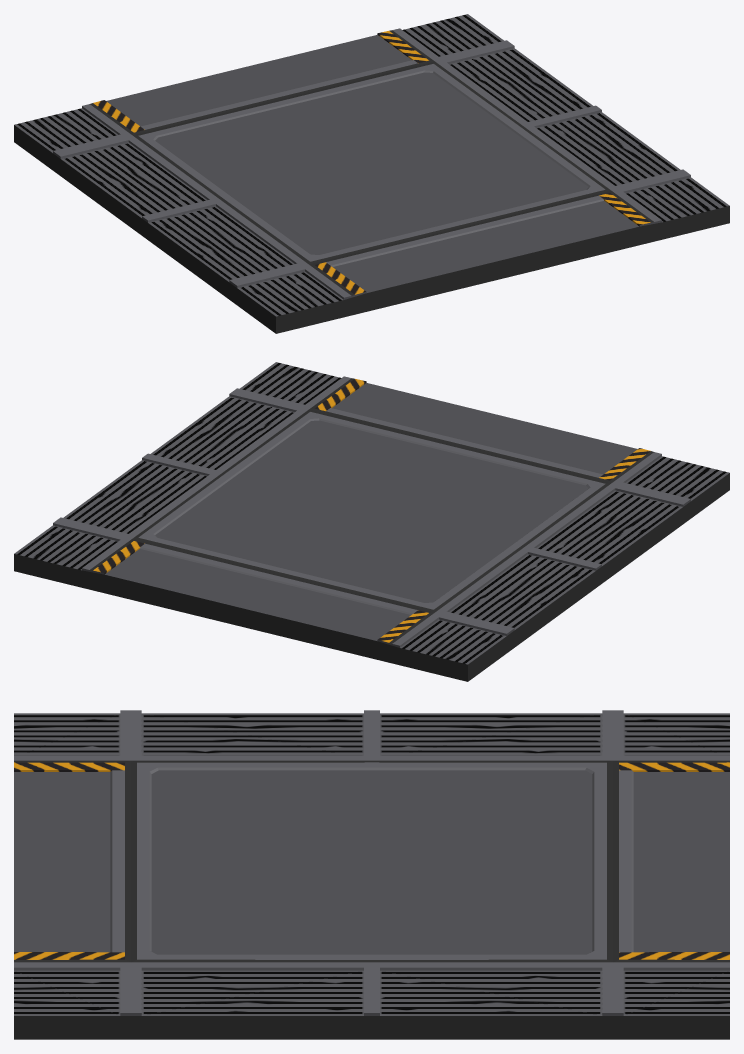
File: SM_Bld_Floor_08.fbx
3 views of the same model, one above another, from view 1: azimuth 30°, elevation 25°; view 2: azimuth 150°, elevation 25°; view 3: azimuth 270°, elevation 25° (orthographic). The views are drawn at different scales.
Visible parts, largest first — view 1: SM_Bld_Floor_08_LOD0; view 2: SM_Bld_Floor_08_LOD0; view 3: SM_Bld_Floor_08_LOD0.
Boxes of the visible parts, x1,y1,x2,y2 form: SM_Bld_Floor_08_LOD0: [14, 14, 729, 333]; SM_Bld_Floor_08_LOD0: [14, 362, 729, 681]; SM_Bld_Floor_08_LOD0: [14, 710, 729, 1039].
Bounding box in the file's own units: 500 × 500 × 21.2.
Materials: 1 (1 with a texture image).
